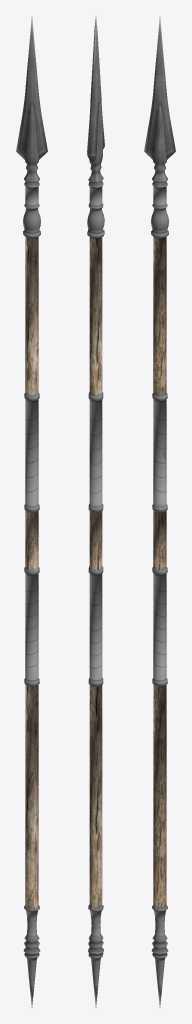
Rendered from SM_Spear_06.fbx.
The picture shows the model from 3 angles, left to right: view 1: azimuth 90°, elevation 25°; view 2: azimuth 150°, elevation 25°; view 3: azimuth 270°, elevation 25°; orthographic projection.
Parts seen in each view (by area): view 1: SM_Spear_06_LOD0; view 2: SM_Spear_06_LOD0; view 3: SM_Spear_06_LOD0.
Boxes of the visible parts, x1,y1,x2,y2 form: SM_Spear_06_LOD0: (16,16,47,1007); SM_Spear_06_LOD0: (87,16,104,1007); SM_Spear_06_LOD0: (144,16,175,1007).
Bounding box in the file's own units: 3.32 × 5.83 × 200.
Materials: 1 (1 with a texture image).
